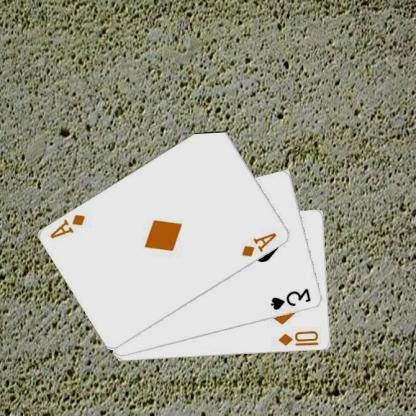10D: (278, 328, 322, 348)
3S: (270, 286, 315, 312)
AD: (241, 230, 280, 258), (50, 212, 88, 240)
